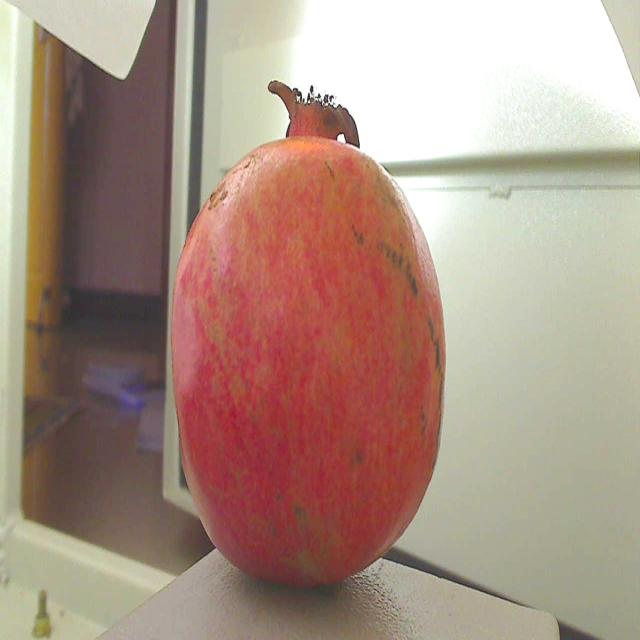pomegranate: (151, 64, 457, 603)
